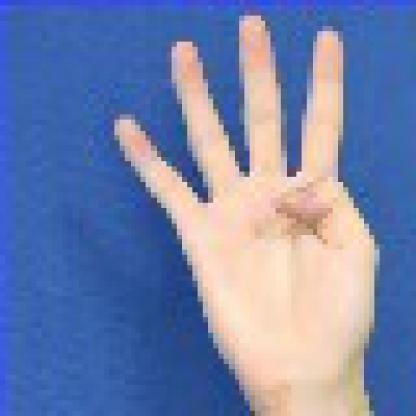four: (108, 11, 397, 392)
